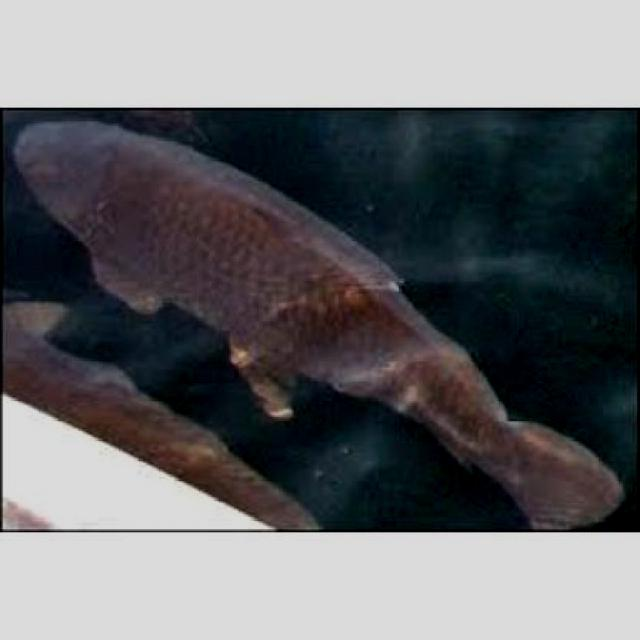ikan-mas: (16, 114, 638, 526)
